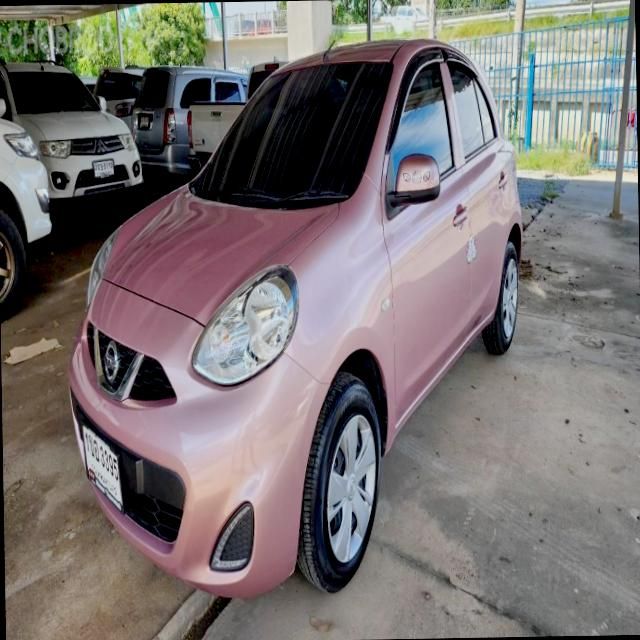license_plate: (78, 416, 128, 528)
